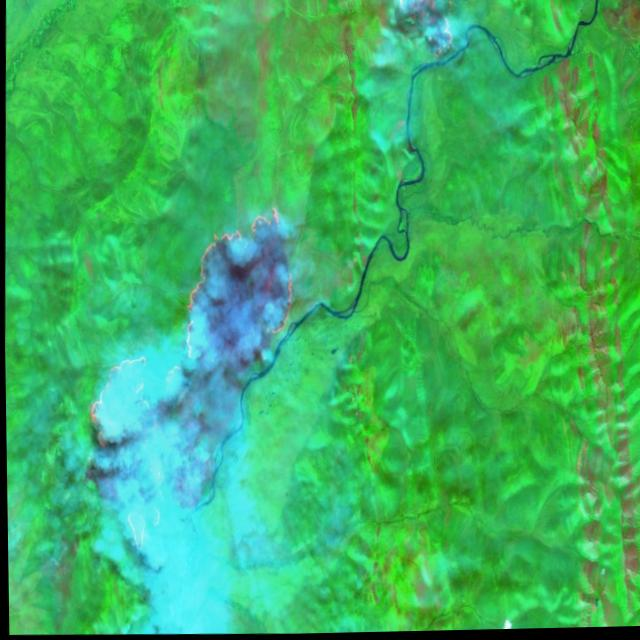fire: (81, 202, 301, 562), (387, 0, 461, 77)
